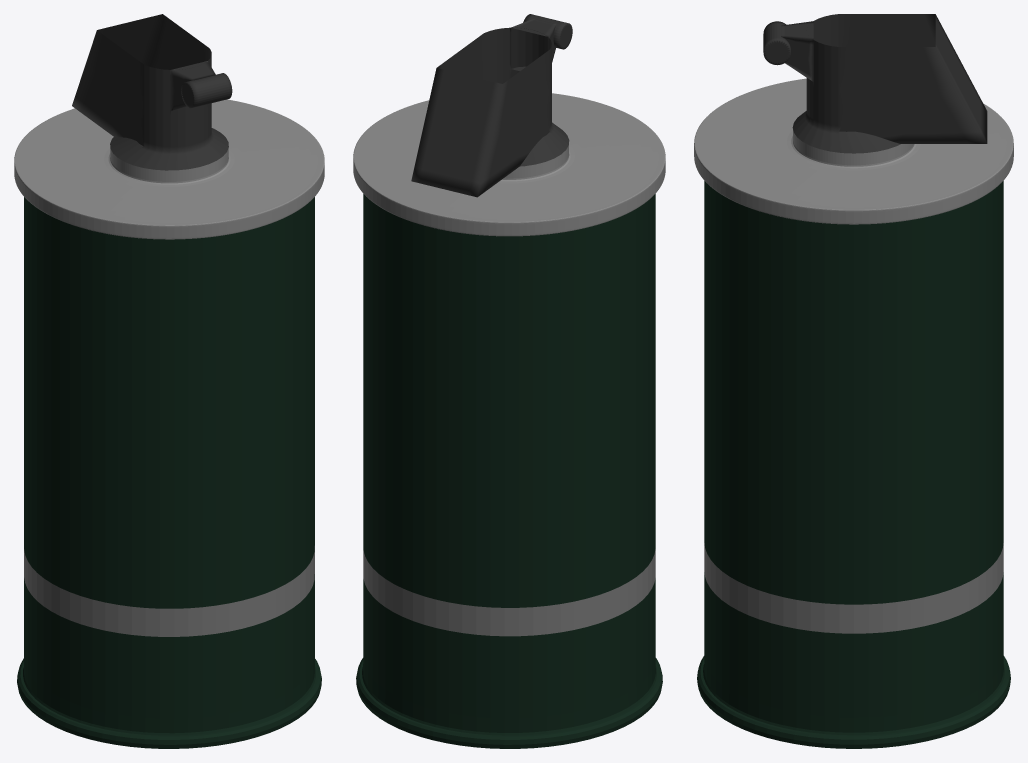
Rendered from SmokeGrenadeProjectile.glb.
3 views of the same model, side by side, from view 1: azimuth 30°, elevation 25°; view 2: azimuth 150°, elevation 25°; view 3: azimuth 270°, elevation 25° (orthographic). The views are drawn at different scales.
Visible parts, largest first — view 1: Circle, Circle.001, Cylinder, Circle.002; view 2: Circle, Circle.001, Cylinder, Circle.002; view 3: Circle, Circle.001, Cylinder, Circle.002.
Boxes of the visible parts, x1,y1,x2,y2 form: Circle: [17, 197, 321, 748]; Circle.001: [14, 99, 324, 239]; Cylinder: [72, 14, 232, 170]; Circle.002: [24, 546, 314, 636]; Circle: [356, 194, 662, 748]; Circle.001: [353, 93, 665, 236]; Cylinder: [411, 14, 572, 197]; Circle.002: [363, 549, 655, 636]; Circle: [697, 181, 1010, 748]; Circle.001: [694, 78, 1013, 224]; Cylinder: [763, 14, 987, 153]; Circle.002: [704, 543, 1003, 633].
Bounding box in the file's own units: 2.12 × 4.8 × 2.12.
